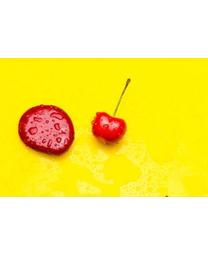cherry: (92, 112, 127, 145)
